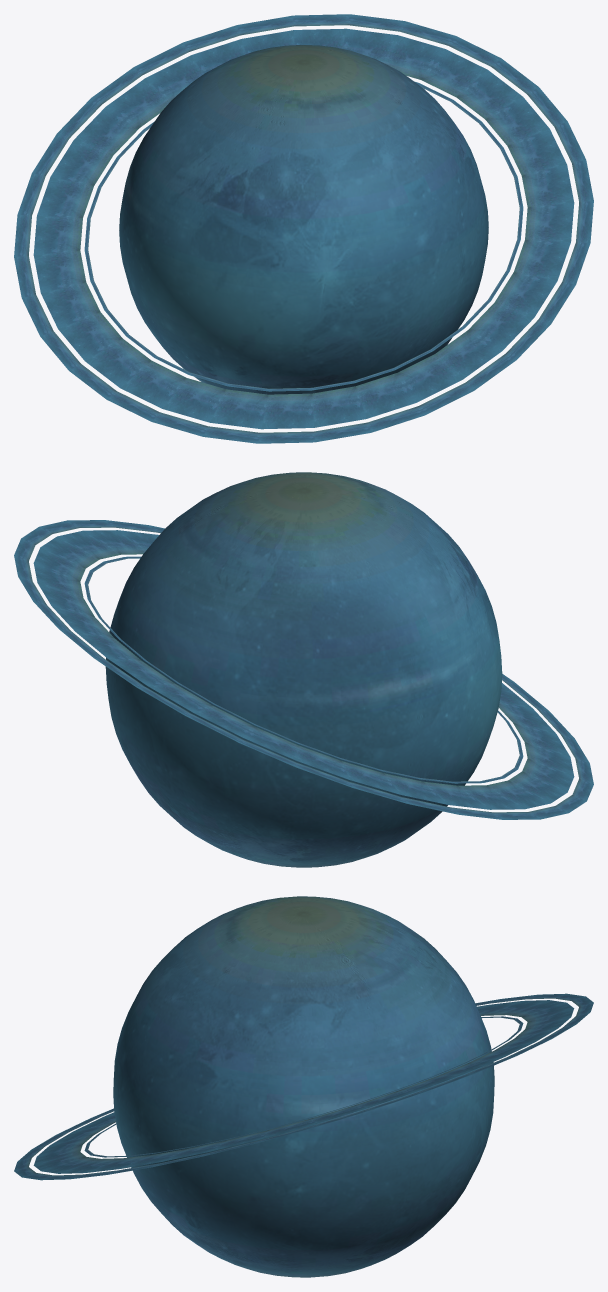
The model's file is Uranus.fbx.
3 views of the same model, one above another, from view 1: azimuth 30°, elevation 25°; view 2: azimuth 150°, elevation 25°; view 3: azimuth 270°, elevation 25° (orthographic). The views are drawn at different scales.
Visible parts, largest first — view 1: Uranus.003, Uranus.000; view 2: Uranus.003, Uranus.000; view 3: Uranus.003, Uranus.000.
Part boxes in pixels (x1,y1,x2,y2): Uranus.003: [119, 45, 488, 394]; Uranus.000: [14, 14, 593, 443]; Uranus.003: [105, 472, 502, 867]; Uranus.000: [14, 520, 593, 819]; Uranus.003: [113, 896, 494, 1277]; Uranus.000: [14, 993, 593, 1180].
Bounding box in the file's own units: 8.28 × 5.45 × 8.29.
